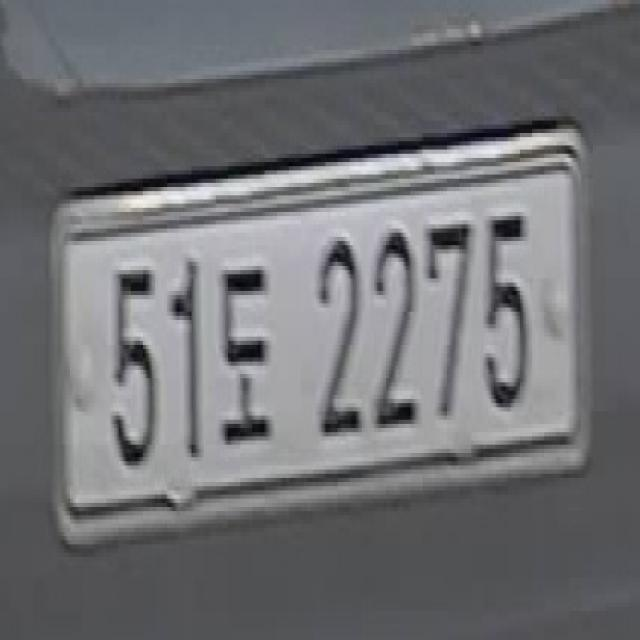1: (163, 250, 210, 470)
2: (369, 214, 419, 454), (312, 220, 364, 446)
5: (110, 255, 160, 473), (482, 201, 530, 425)
7: (422, 207, 476, 452)
do: (217, 248, 277, 468)
license_plate: (38, 90, 606, 583)
